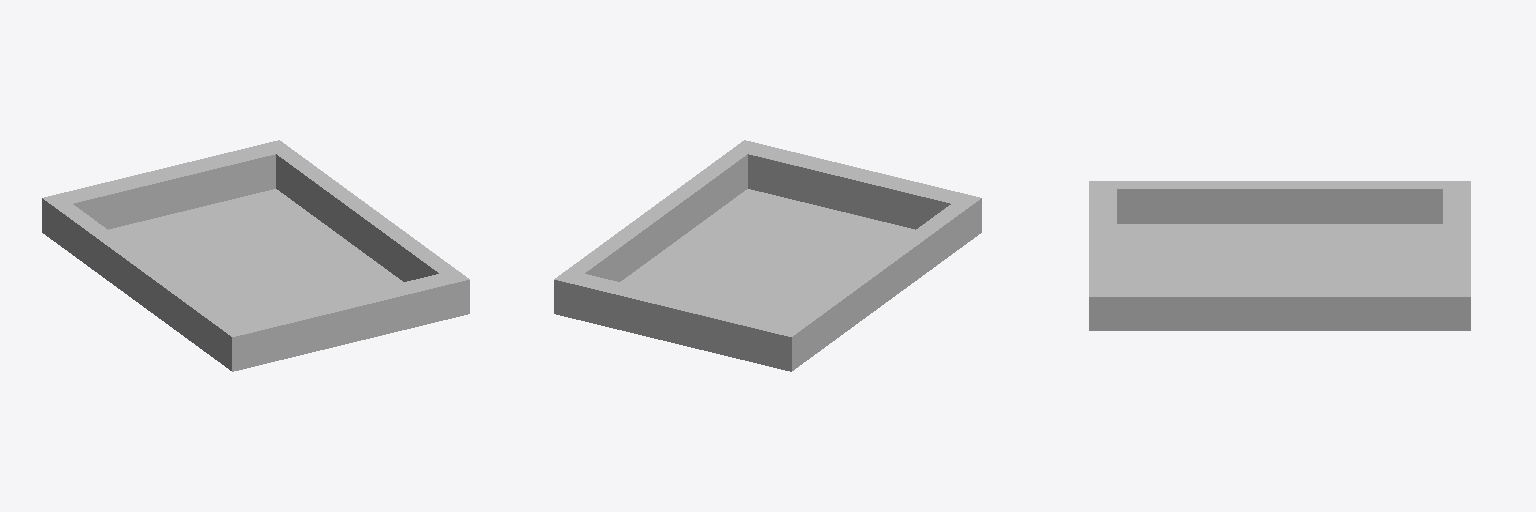
File: Frame3.obj
3 renders of one model, left to right at view 1: azimuth 30°, elevation 25°; view 2: azimuth 150°, elevation 25°; view 3: azimuth 270°, elevation 25°, orthographic.
Parts seen in each view (by area): view 1: pCube9; view 2: pCube9; view 3: pCube9.
Boxes of the visible parts, <box> form: pCube9: <box>42,140,469,371</box>; pCube9: <box>554,140,981,371</box>; pCube9: <box>1089,181,1470,330</box>.
Size of the model in its own units: 7.2 by 1 by 10.